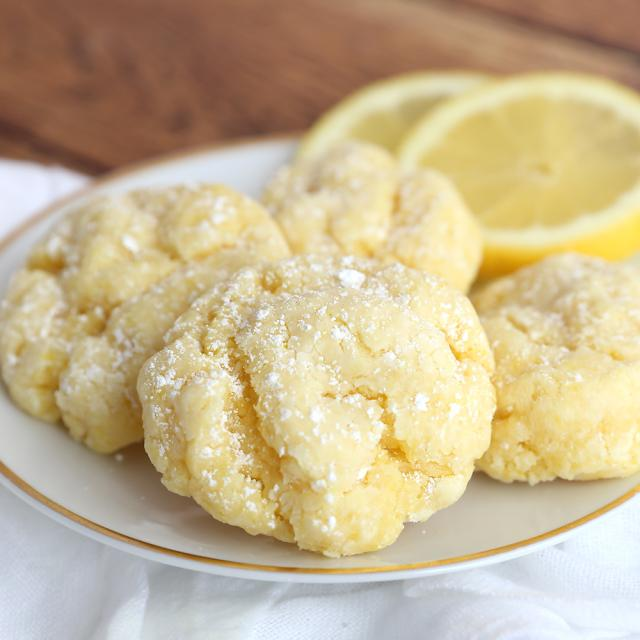lemon: (293, 55, 640, 314)
